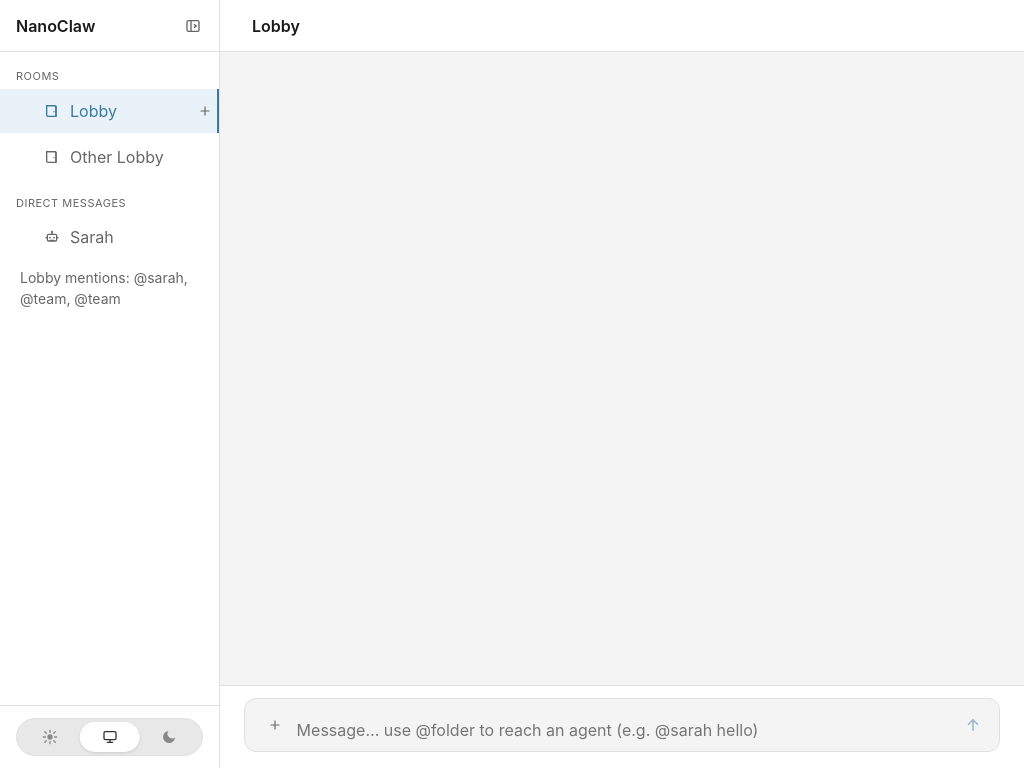
Test case: App › sends without optimistic sender metadata when bootstrap has no user
The width and height of the screenshot is (1024, 768).
Expected: the heading "Lobby" is shown, [252,14,300,38]
Type "hello without user" into the text box at point(624, 730), box [297,719,951,741]
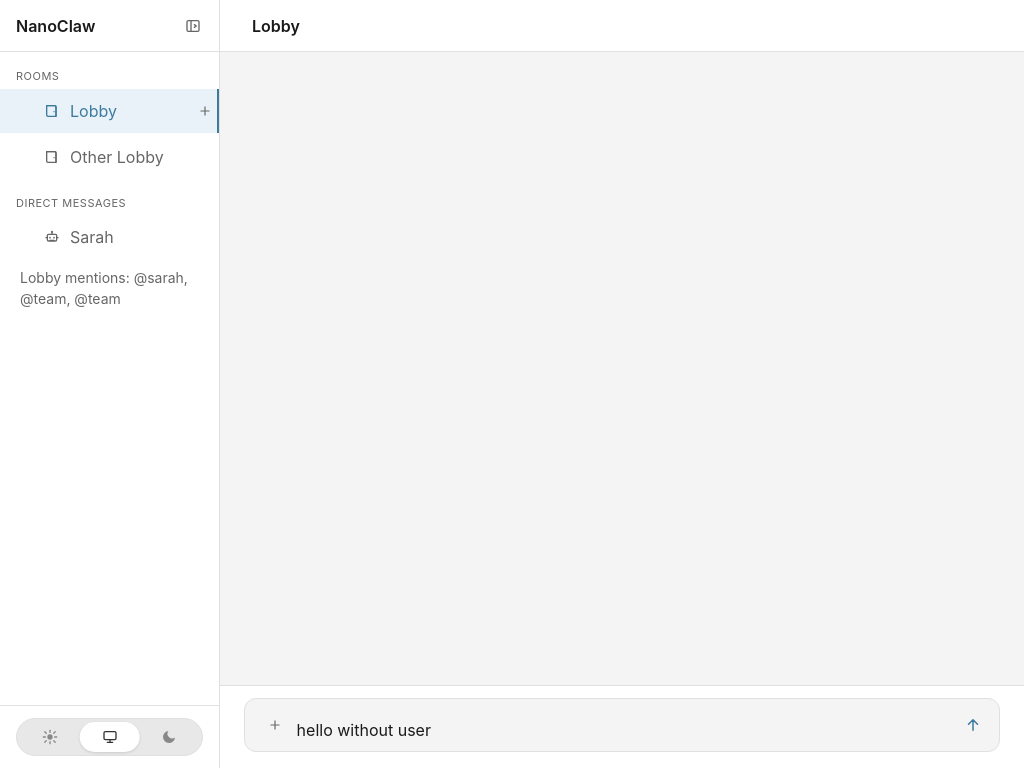
Click the button named "Send message" at point(973, 725), box [957,709,989,741]
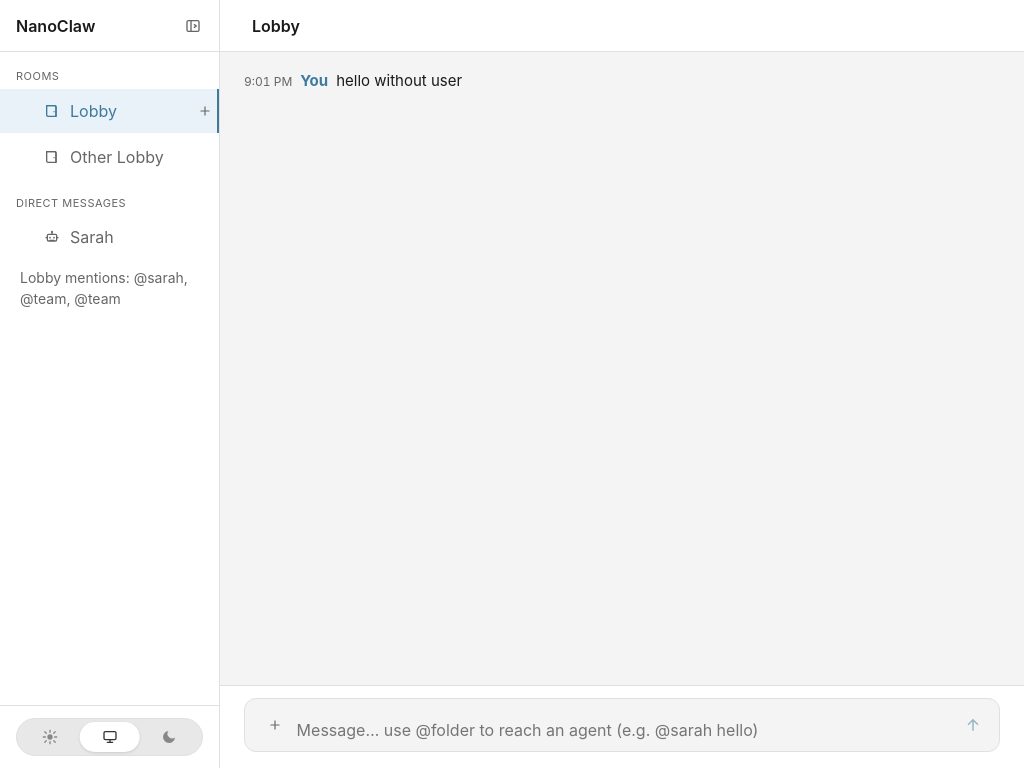
Expected: the text "hello without user" is shown, [336,71,462,90]
